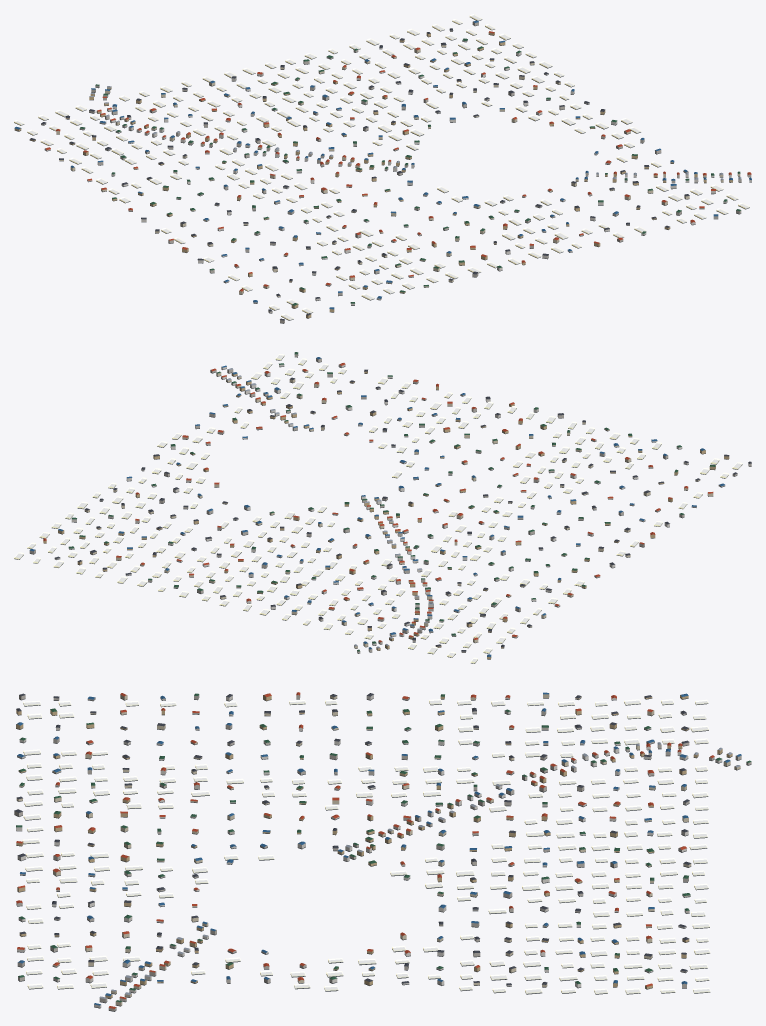
File: buildings_T_W06_N04.glb
3 views of the same model, one above another, from view 1: azimuth 30°, elevation 25°; view 2: azimuth 150°, elevation 25°; view 3: azimuth 270°, elevation 25° (orthographic). The views are drawn at different scales.
Visible parts, largest first — view 1: T_W06_N04_roofs_agri_greenhouse_arch, T_W06_N04_slope_seating_foundations, T_W06_N04_walls_wall_french_ochre_villa, T_W06_N04_walls_wall_pastel_sand_gray, T_W06_N04_walls_wall_modern_warm_white, T_W06_N04_walls_wall_dalat_cream_stucco, T_W06_N04_roofs_roof_terracotta_gable, T_W06_N04_roofs_roof_highland_blue_gable, T_W06_N04_roofs_roof_slate_French_villa_hip, T_W06_N04_roofs_roof_pine_green_hip; view 2: T_W06_N04_roofs_agri_greenhouse_arch, T_W06_N04_slope_seating_foundations, T_W06_N04_walls_wall_french_ochre_villa, T_W06_N04_walls_wall_pastel_sand_gray, T_W06_N04_walls_wall_modern_warm_white, T_W06_N04_walls_wall_dalat_cream_stucco, T_W06_N04_roofs_roof_terracotta_gable, T_W06_N04_roofs_roof_highland_blue_gable, T_W06_N04_roofs_roof_slate_French_villa_hip, T_W06_N04_roofs_roof_pine_green_hip; view 3: T_W06_N04_roofs_agri_greenhouse_arch, T_W06_N04_slope_seating_foundations, T_W06_N04_walls_wall_french_ochre_villa, T_W06_N04_walls_wall_pastel_sand_gray, T_W06_N04_walls_wall_modern_warm_white, T_W06_N04_walls_wall_dalat_cream_stucco, T_W06_N04_roofs_roof_terracotta_gable, T_W06_N04_roofs_roof_highland_blue_gable, T_W06_N04_roofs_roof_slate_French_villa_hip, T_W06_N04_roofs_roof_pine_green_hip.
Boxes of the visible parts, x1=… form: T_W06_N04_roofs_agri_greenhouse_arch: x1=14, y1=14, x2=749, y2=320; T_W06_N04_slope_seating_foundations: x1=14, y1=16, x2=751, y2=323; T_W06_N04_walls_wall_french_ochre_villa: x1=14, y1=32, x2=732, y2=318; T_W06_N04_walls_wall_pastel_sand_gray: x1=41, y1=21, x2=751, y2=323; T_W06_N04_walls_wall_modern_warm_white: x1=44, y1=40, x2=751, y2=305; T_W06_N04_walls_wall_dalat_cream_stucco: x1=56, y1=44, x2=740, y2=296; T_W06_N04_roofs_roof_terracotta_gable: x1=45, y1=31, x2=751, y2=291; T_W06_N04_roofs_roof_highland_blue_gable: x1=14, y1=20, x2=751, y2=309; T_W06_N04_roofs_roof_slate_French_villa_hip: x1=30, y1=28, x2=689, y2=320; T_W06_N04_roofs_roof_pine_green_hip: x1=80, y1=38, x2=740, y2=305; T_W06_N04_roofs_agri_greenhouse_arch: x1=14, y1=354, x2=742, y2=663; T_W06_N04_slope_seating_foundations: x1=14, y1=355, x2=751, y2=663; T_W06_N04_walls_wall_french_ochre_villa: x1=43, y1=371, x2=729, y2=658; T_W06_N04_walls_wall_pastel_sand_gray: x1=29, y1=353, x2=751, y2=653; T_W06_N04_walls_wall_modern_warm_white: x1=69, y1=364, x2=688, y2=645; T_W06_N04_walls_wall_dalat_cream_stucco: x1=84, y1=370, x2=713, y2=648; T_W06_N04_roofs_roof_terracotta_gable: x1=43, y1=363, x2=713, y2=642; T_W06_N04_roofs_roof_highland_blue_gable: x1=29, y1=357, x2=724, y2=657; T_W06_N04_roofs_roof_slate_French_villa_hip: x1=55, y1=369, x2=751, y2=651; T_W06_N04_roofs_roof_pine_green_hip: x1=68, y1=352, x2=715, y2=651; T_W06_N04_roofs_agri_greenhouse_arch: x1=22, y1=699, x2=710, y2=993; T_W06_N04_slope_seating_foundations: x1=14, y1=697, x2=751, y2=1011; T_W06_N04_walls_wall_french_ochre_villa: x1=16, y1=695, x2=732, y2=998; T_W06_N04_walls_wall_pastel_sand_gray: x1=14, y1=694, x2=751, y2=1011; T_W06_N04_walls_wall_modern_warm_white: x1=16, y1=694, x2=722, y2=1007; T_W06_N04_walls_wall_dalat_cream_stucco: x1=16, y1=693, x2=740, y2=1005; T_W06_N04_roofs_roof_terracotta_gable: x1=16, y1=692, x2=714, y2=1008; T_W06_N04_roofs_roof_highland_blue_gable: x1=16, y1=692, x2=741, y2=1005; T_W06_N04_roofs_roof_slate_French_villa_hip: x1=14, y1=693, x2=691, y2=985; T_W06_N04_roofs_roof_pine_green_hip: x1=16, y1=693, x2=751, y2=1002.
Size of the model in its own units: 1862 by 40.31 by 1859.
